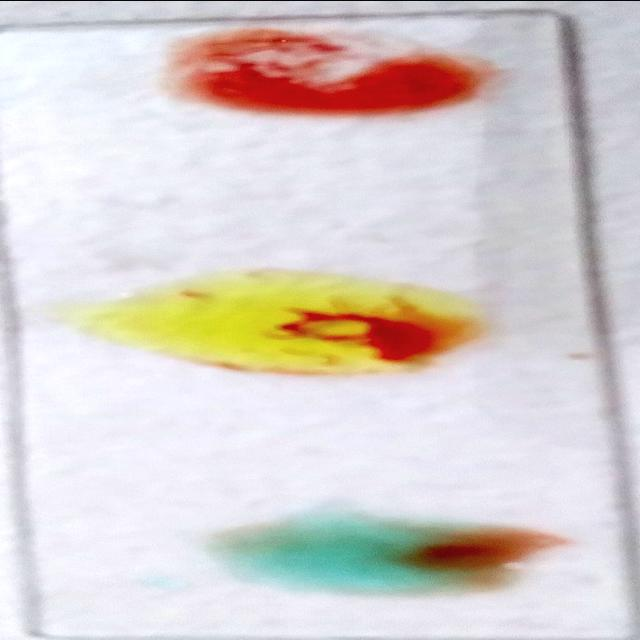B: (92, 278, 492, 368)
D: (164, 32, 500, 112)
